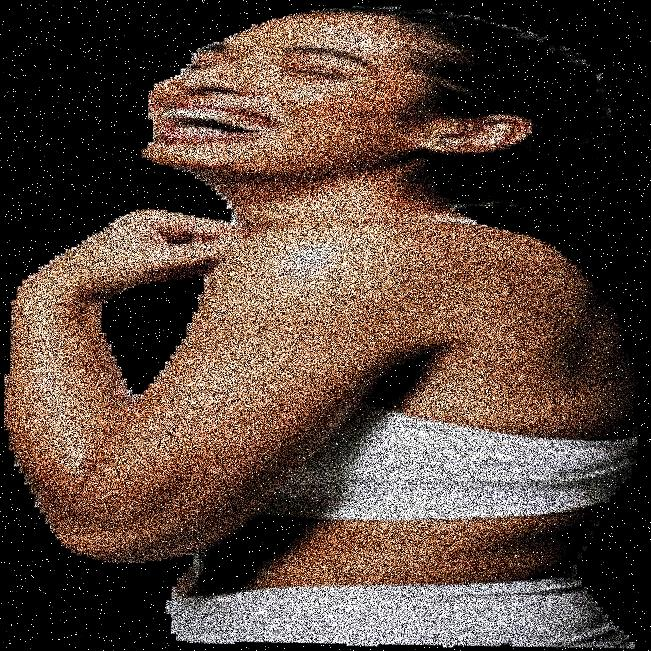Pessoa: (4, 0, 644, 650)
